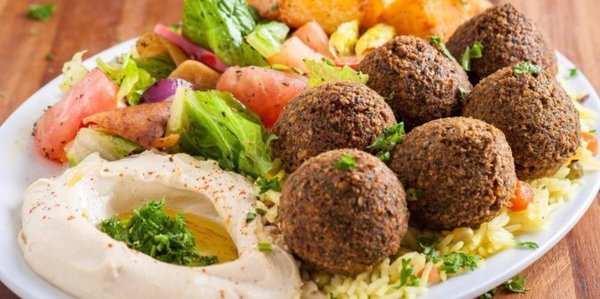curry: (173, 87, 279, 185), (97, 199, 219, 268)
